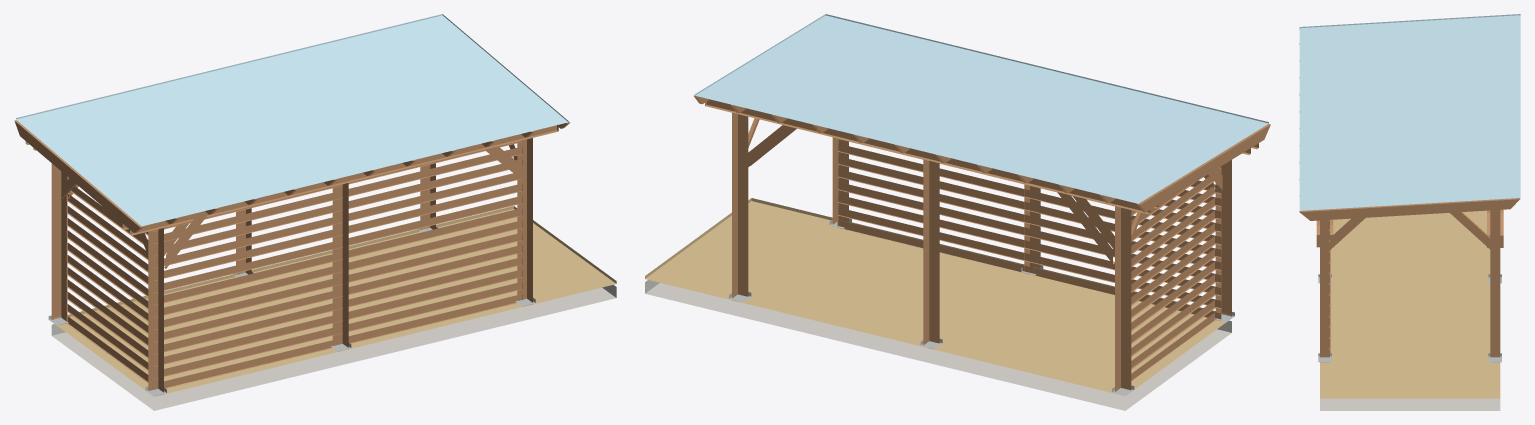
File: pergola_final_model.glb
3 renders of one model, left to right at view 1: azimuth 30°, elevation 25°; view 2: azimuth 150°, elevation 25°; view 3: azimuth 270°, elevation 25°, orthographic. The views are drawn at different scales.
Visible parts, largest first — view 1: clear_polycarbonate_roof, terrace_deck_surface, concrete_slab_2500x6500, long_privacy_slat_8, long_privacy_slat_3, long_privacy_slat_4, long_privacy_slat_2, long_privacy_slat_6, long_privacy_slat_9, long_privacy_slat_10, long_privacy_slat_5, long_privacy_slat_7 (+23 smaller); view 2: clear_polycarbonate_roof, terrace_deck_surface, concrete_slab_2500x6500, glulam_post_140x140_-588_-1180, glulam_post_140x140_-3180_-1180, paired_long_beam_-1180_-1272.5, glulam_post_140x140_2004_-1180, long_privacy_slat_2, long_privacy_slat_3, long_privacy_slat_4, long_privacy_slat_5, long_privacy_slat_7 (+21 smaller); view 3: clear_polycarbonate_roof, terrace_deck_surface, rafter_45x145_12, concrete_slab_2500x6500, glulam_post_140x140_2004_-1180, glulam_post_140x140_2004_1180, upper_corner_brace_cross_760_2004_-1180, upper_corner_brace_cross_760_2004_1180.
Part boxes in pixels (box(x1,y1,x2,y2)): clear_polycarbonate_roof: box(16, 14, 568, 226); terrace_deck_surface: box(53, 206, 616, 396); concrete_slab_2500x6500: box(51, 285, 616, 410); long_privacy_slat_8: box(153, 209, 522, 305); long_privacy_slat_3: box(154, 270, 522, 366); long_privacy_slat_4: box(153, 258, 522, 354); long_privacy_slat_2: box(153, 282, 522, 379); long_privacy_slat_6: box(154, 233, 522, 329); long_privacy_slat_9: box(153, 196, 522, 293); long_privacy_slat_10: box(154, 184, 522, 280); long_privacy_slat_5: box(154, 245, 522, 342); long_privacy_slat_7: box(154, 221, 522, 317); clear_polycarbonate_roof: box(695, 14, 1268, 203); terrace_deck_surface: box(645, 198, 1231, 396); concrete_slab_2500x6500: box(645, 280, 1231, 410); glulam_post_140x140_-588_-1180: box(923, 159, 939, 349); glulam_post_140x140_-3180_-1180: box(1115, 206, 1131, 391); paired_long_beam_-1180_-1272.5: box(705, 99, 1150, 214); glulam_post_140x140_2004_-1180: box(732, 113, 748, 301); long_privacy_slat_2: box(837, 207, 1221, 308); long_privacy_slat_3: box(837, 194, 1221, 295); long_privacy_slat_4: box(837, 182, 1221, 283); long_privacy_slat_5: box(837, 169, 1221, 270); long_privacy_slat_7: box(837, 143, 1221, 244); clear_polycarbonate_roof: box(1299, 14, 1520, 210); terrace_deck_surface: box(1320, 210, 1500, 398); rafter_45x145_12: box(1299, 198, 1520, 220); concrete_slab_2500x6500: box(1320, 398, 1500, 410); glulam_post_140x140_2004_-1180: box(1490, 210, 1500, 362); glulam_post_140x140_2004_1180: box(1320, 220, 1329, 362); upper_corner_brace_cross_760_2004_-1180: box(1450, 212, 1490, 249); upper_corner_brace_cross_760_2004_1180: box(1330, 217, 1365, 249).
Size of the model in its own units: 6.86 by 2.89 by 3.07.
